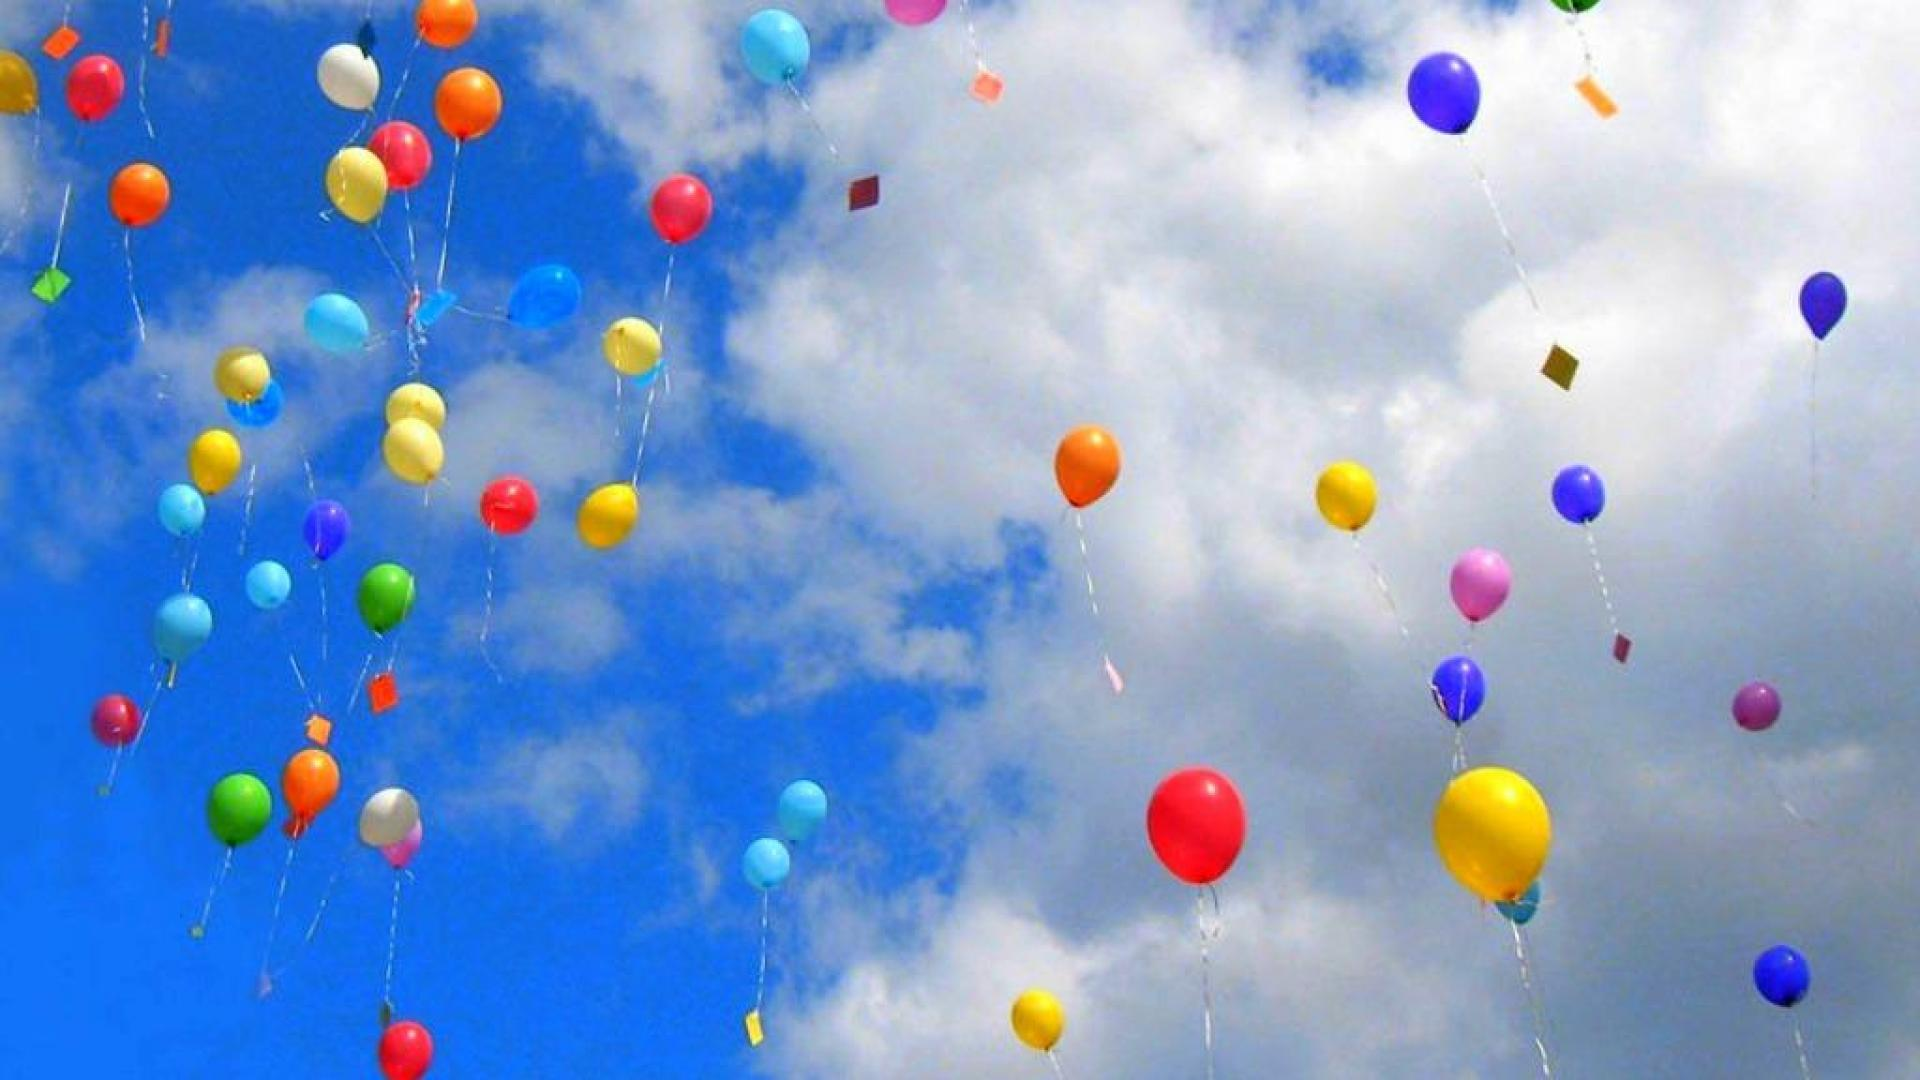Balloon: (1431, 765, 1551, 902), (1145, 765, 1245, 884), (1406, 49, 1482, 135), (502, 262, 582, 332), (1054, 426, 1117, 506), (1315, 462, 1378, 535), (1453, 547, 1513, 622), (649, 173, 711, 243), (357, 785, 419, 853), (302, 293, 368, 356), (578, 483, 640, 549), (357, 563, 415, 632), (382, 418, 443, 483), (378, 1015, 436, 1080), (1755, 945, 1812, 1010), (189, 427, 243, 493), (1797, 269, 1849, 338), (1010, 982, 1064, 1047), (774, 775, 825, 841), (601, 318, 662, 373), (479, 477, 541, 531), (1431, 655, 1484, 716), (1553, 463, 1604, 524), (305, 501, 351, 556), (160, 484, 207, 537), (1735, 680, 1782, 733), (745, 835, 786, 887)
